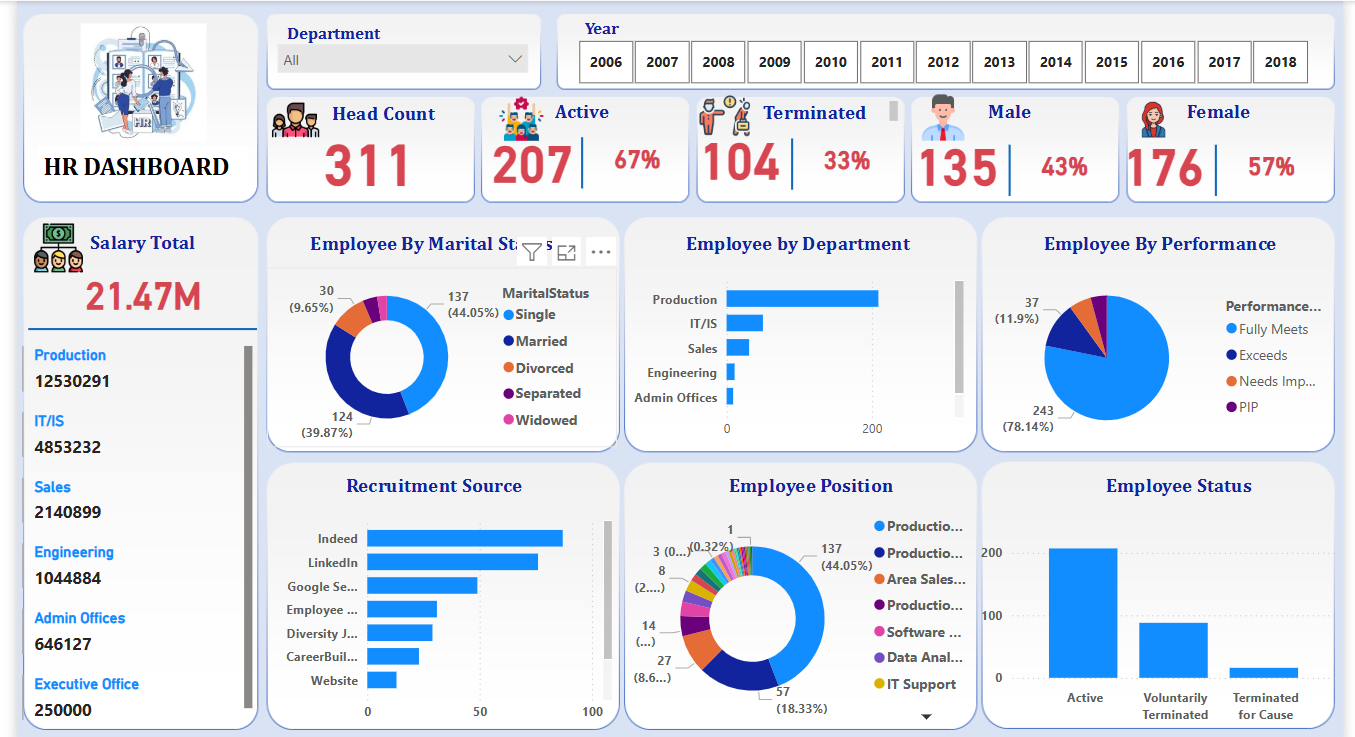

The dashboard page shown, as its layout file describes it:
{"tool":"powerbi","page":{"name":"HR Analytics","canvas":[1280,720],"ordinal":0},"visuals":[{"type":"image","box":[20.6,16.5,203.1,123.5],"z":0},{"type":"card","fields":{"Values":["All Measures (2).Terminated"]},"box":[650.2,113.7,94.7,71.4],"z":0,"group":"g2"},{"type":"card","fields":{"Values":["All Measures (2).Male"]},"box":[860.4,119.4,94.7,71.4],"z":0,"group":"g3"},{"type":"card","fields":{"Values":["All Measures (2).Female"]},"box":[1059.4,119.4,94.7,71.4],"z":0,"group":"g4"},{"type":"card","fields":{"Values":["All Measures (2).Active"]},"box":[451.5,120.8,91.9,63.1],"z":0,"group":"g1"},{"type":"card","fields":{"Values":["All Measures (2).Active %"]},"box":[546.2,122.2,107,60.4],"z":1000,"group":"g1"},{"type":"card","fields":{"Values":["All Measures (2).Terminate %"]},"box":[747.9,123.5,107,60.4],"z":1000,"group":"g2"},{"type":"card","fields":{"Values":["All Measures (2).Male %"]},"box":[958.1,129.2,107,60.4],"z":1000,"group":"g3"},{"type":"card","fields":{"Values":["All Measures (2).Female %"]},"box":[1157.1,129.2,107,60.4],"z":1000,"group":"g4"},{"type":"textbox","box":[20.6,140,203.1,38.4],"z":1000},{"type":"slicer","fields":{"Values":["HRData.Department"]},"box":[241.5,31.6,262.1,41.2],"z":2000},{"type":"shape","box":[535.2,131.8,22,49.4],"z":2000,"group":"g1"},{"type":"shape","box":[736.9,133.1,22,49.4],"z":2000,"group":"g2"},{"type":"shape","box":[947.1,138.8,22,49.4],"z":2000,"group":"g3"},{"type":"shape","box":[1146.1,138.8,22,49.4],"z":2000,"group":"g4"},{"type":"textbox","box":[255.2,16.5,248.4,30.2],"z":3000},{"type":"textbox","box":[543.4,12.3,452.8,34.3],"z":4000},{"type":"slicer","fields":{"Values":["HRData.Hiring Year"]},"box":[516,31.6,753.3,54.9],"z":5000},{"type":"textbox","box":[255.1,92.7,198.1,41.3],"z":6000},{"type":"textbox","box":[451.5,90.6,188,37],"z":7000},{"type":"textbox","box":[692.7,91.2,162.5,37.1],"z":8000},{"type":"textbox","box":[871.4,90.6,174.3,37],"z":9000},{"type":"textbox","box":[1073.1,90.6,178.4,38.4],"z":10000},{"type":"textbox","box":[255.2,218.2,288.2,38.4],"z":11000},{"type":"textbox","box":[639.5,451.5,253.9,43.9],"z":12000},{"type":"textbox","box":[1019.6,451.5,203.1,38.4],"z":13000},{"type":"textbox","box":[959.2,218.2,288.2,39.8],"z":14000},{"type":"textbox","box":[258,451.5,288.2,37],"z":15000},{"type":"textbox","box":[600.1,218.1,307.9,38.5],"z":16000},{"type":"card","fields":{"Values":["All Measures (2).HeadCount"]},"box":[241.5,118,197.6,67.2],"z":17000},{"type":"group","id":"g1","title":"Group 1","box":[451.5,120.8,201.7,63.1],"z":18000},{"type":"group","id":"g2","title":"Group 1","box":[650.2,113.7,204.7,71.4],"z":19000},{"type":"group","id":"g3","title":"Group 1","box":[860.4,119.4,204.5,71.4],"z":20000},{"type":"group","id":"g4","title":"Group 1","box":[1059.4,119.4,204.5,71.4],"z":21000},{"type":"donutChart","fields":{"Y":["All Measures (2).HeadCount"],"Category":["HRData.MaritalStatus"]},"box":[240.9,256.6,337.8,173.9],"z":22000},{"type":"clusteredBarChart","fields":{"Y":["All Measures (2).HeadCount"],"Category":["HRData.Department"]},"box":[578.7,256.6,339.2,173.9],"z":23000},{"type":"pieChart","fields":{"Y":["All Measures (2).HeadCount"],"Category":["HRData.PerformanceScore"]},"box":[932.2,256.6,337.8,175.3],"z":24000},{"type":"clusteredBarChart","fields":{"Y":["All Measures (2).HeadCount"],"Category":["HRData.RecruitmentSource"]},"box":[240.9,488.9,337.8,215.2],"z":25000},{"type":"donutChart","fields":{"Y":["All Measures (2).HeadCount"],"Category":["HRData.Position"]},"box":[588.7,488.9,343.5,215.2],"z":26000},{"type":"card","fields":{"Values":["All Measures (2).Salary"]},"box":[11.4,258,222.4,47],"z":28000},{"type":"textbox","box":[11.4,216.7,220.9,39.9],"z":29000},{"type":"shape","box":[11.4,305,220.9,22.8],"z":30000},{"type":"multiRowCard","fields":{"Values":["All Measures (2).Salary","HRData.Department"]},"box":[0,327.8,232.3,376.3],"z":31000},{"type":"image","box":[240.9,81.2,55.6,68.4],"z":32000},{"type":"image","box":[453.3,77,67,72.7],"z":33000},{"type":"image","box":[654.3,81.2,58.4,59.9],"z":34000},{"type":"image","box":[860.9,82.7,64.1,58.4],"z":35000},{"type":"image","box":[1074.7,89.8,44.2,49.9],"z":36000},{"type":"image","box":[11.4,209.5,58.4,57],"z":37000},{"type":"clusteredColumnChart","fields":{"Y":["All Measures (2).HeadCount"],"Category":["HRData.EmploymentStatus"]},"box":[925.5,488.4,354.8,215.8],"z":37001}]}

Visuals, with their boxes on the page's 1280x720 design canvas (x1, y1, x2, y2). These are canvas units, not pixel positions in the 1355x737 screenshot, which may show the page scaled, cropped or inside an application window:
image: left=21, top=16, right=224, bottom=140
card - All Measures (2).Terminated: left=650, top=114, right=745, bottom=185
card - All Measures (2).Male: left=860, top=119, right=955, bottom=191
card - All Measures (2).Female: left=1059, top=119, right=1154, bottom=191
card - All Measures (2).Active: left=452, top=121, right=543, bottom=184
card - All Measures (2).Active %: left=546, top=122, right=653, bottom=183
card - All Measures (2).Terminate %: left=748, top=124, right=855, bottom=184
card - All Measures (2).Male %: left=958, top=129, right=1065, bottom=190
card - All Measures (2).Female %: left=1157, top=129, right=1264, bottom=190
textbox: left=21, top=140, right=224, bottom=178
slicer - HRData.Department: left=242, top=32, right=504, bottom=73
shape: left=535, top=132, right=557, bottom=181
shape: left=737, top=133, right=759, bottom=182
shape: left=947, top=139, right=969, bottom=188
shape: left=1146, top=139, right=1168, bottom=188
textbox: left=255, top=16, right=504, bottom=47
textbox: left=543, top=12, right=996, bottom=47
slicer - HRData.Hiring Year: left=516, top=32, right=1269, bottom=86
textbox: left=255, top=93, right=453, bottom=134
textbox: left=452, top=91, right=640, bottom=128
textbox: left=693, top=91, right=855, bottom=128
textbox: left=871, top=91, right=1046, bottom=128
textbox: left=1073, top=91, right=1252, bottom=129
textbox: left=255, top=218, right=543, bottom=257
textbox: left=640, top=452, right=893, bottom=495
textbox: left=1020, top=452, right=1223, bottom=490
textbox: left=959, top=218, right=1247, bottom=258
textbox: left=258, top=452, right=546, bottom=488
textbox: left=600, top=218, right=908, bottom=257
card - All Measures (2).HeadCount: left=242, top=118, right=439, bottom=185
"Group 1" group: left=452, top=121, right=653, bottom=184
"Group 1" group: left=650, top=114, right=855, bottom=185
"Group 1" group: left=860, top=119, right=1065, bottom=191
"Group 1" group: left=1059, top=119, right=1264, bottom=191
donutChart - All Measures (2).HeadCount x HRData.MaritalStatus: left=241, top=257, right=579, bottom=430
clusteredBarChart - All Measures (2).HeadCount x HRData.Department: left=579, top=257, right=918, bottom=430
pieChart - All Measures (2).HeadCount x HRData.PerformanceScore: left=932, top=257, right=1270, bottom=432
clusteredBarChart - All Measures (2).HeadCount x HRData.RecruitmentSource: left=241, top=489, right=579, bottom=704
donutChart - All Measures (2).HeadCount x HRData.Position: left=589, top=489, right=932, bottom=704
card - All Measures (2).Salary: left=11, top=258, right=234, bottom=305
textbox: left=11, top=217, right=232, bottom=257
shape: left=11, top=305, right=232, bottom=328
multiRowCard - All Measures (2).Salary x HRData.Department: left=0, top=328, right=232, bottom=704
image: left=241, top=81, right=296, bottom=150
image: left=453, top=77, right=520, bottom=150
image: left=654, top=81, right=713, bottom=141
image: left=861, top=83, right=925, bottom=141
image: left=1075, top=90, right=1119, bottom=140
image: left=11, top=210, right=70, bottom=266
clusteredColumnChart - All Measures (2).HeadCount x HRData.EmploymentStatus: left=926, top=488, right=1280, bottom=704
